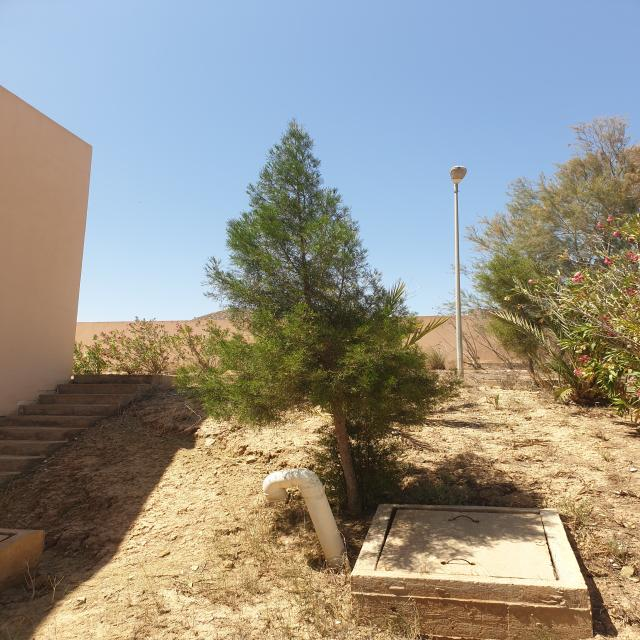Electric pole: (450, 165, 467, 378)
Tree: (177, 121, 455, 516)
